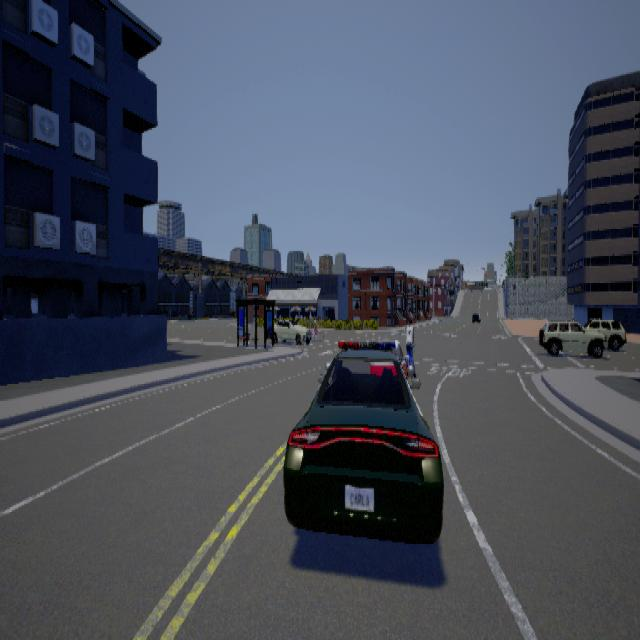bike: (402, 317, 418, 379)
vehicle: (282, 337, 443, 542), (538, 317, 603, 357), (580, 315, 629, 352), (273, 318, 316, 344)
